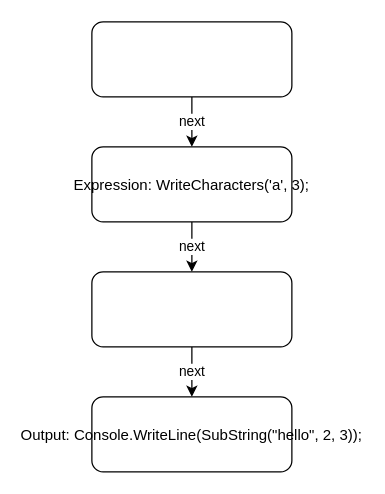
This 385x494 diagram has some shape labels left out. Each missing label, with the centre of its shape:
Expression: WriteStars(5);: the point at 191,59
Output: Console.WriteLine(SumOfDigits(123));: the point at 191,309
